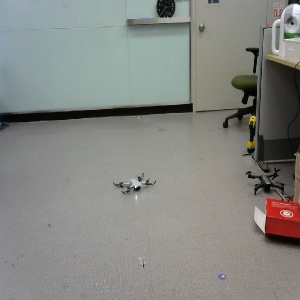Drone: (111, 172, 156, 196)
